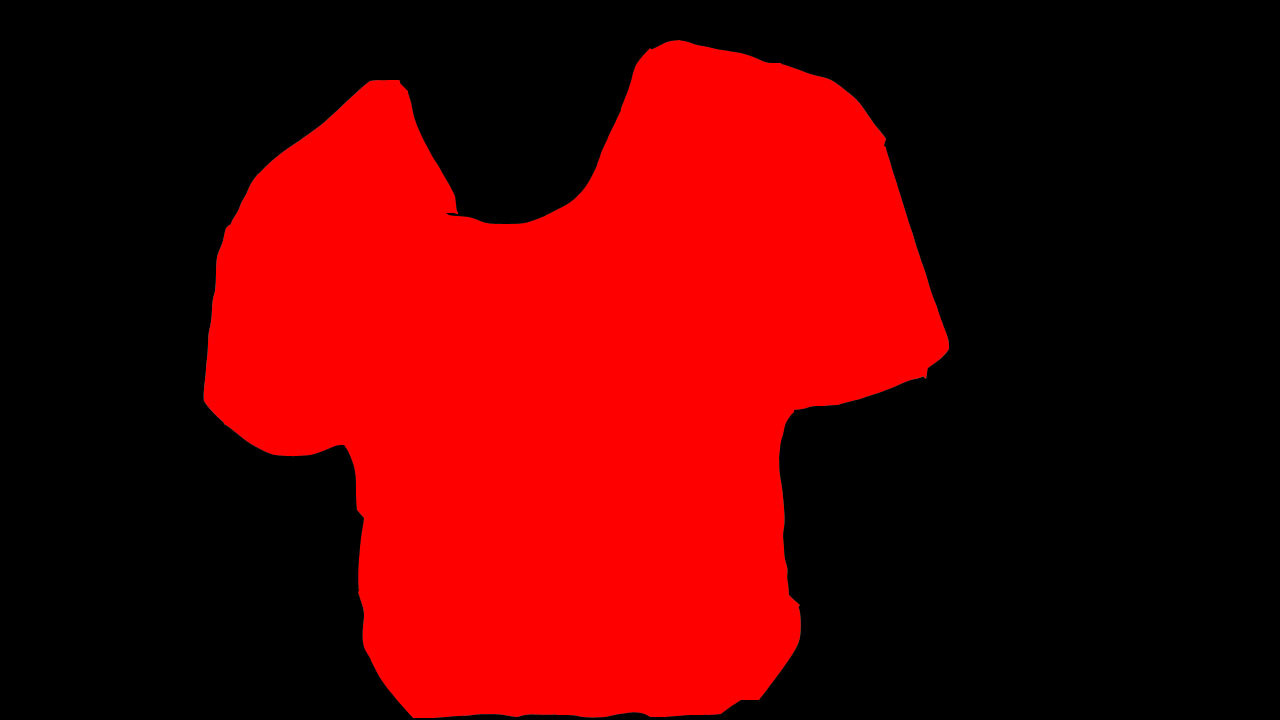uniforme_ifmt: (206, 18, 948, 720)
